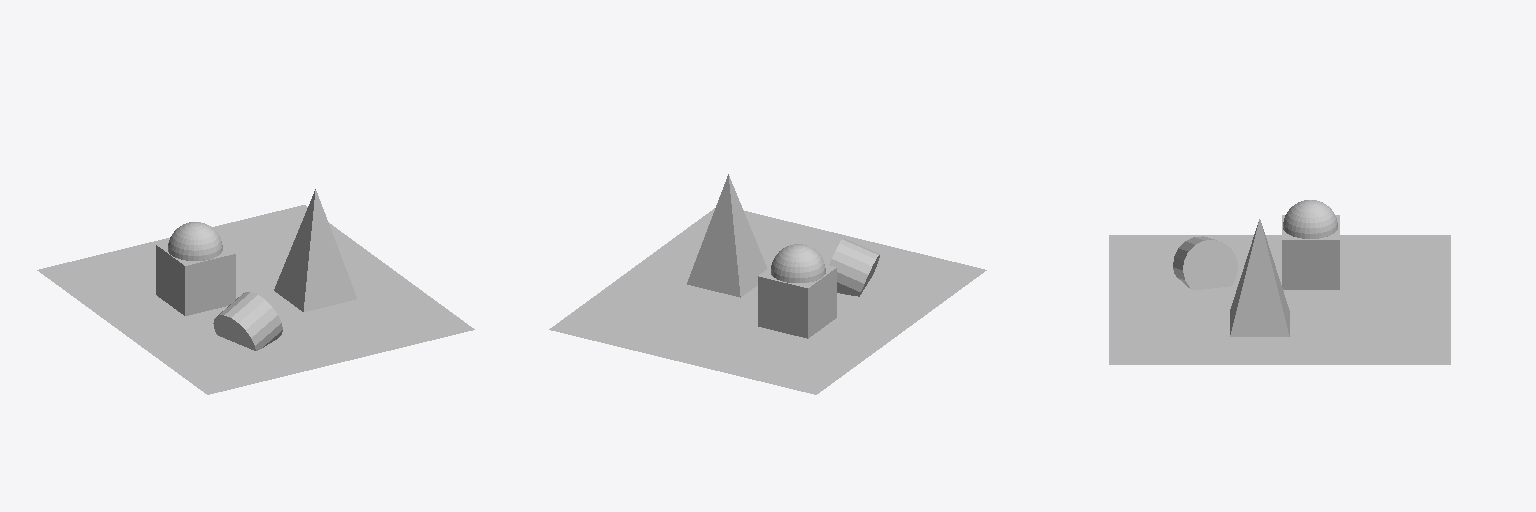
Rendered from shadow_test.obj.
The picture shows the model from 3 angles: view 1: azimuth 30°, elevation 25°; view 2: azimuth 150°, elevation 25°; view 3: azimuth 270°, elevation 25°; orthographic projection.
Visible parts, largest first — view 1: Plane001, Pyramid001, Box001, Cylinder001, Sphere001; view 2: Plane001, Pyramid001, Box001, Cylinder001, Sphere001; view 3: Plane001, Pyramid001, Box001, Cylinder001, Sphere001.
Part boxes in pixels (x1,y1,x2,y2): Plane001: (37, 205, 474, 394); Pyramid001: (274, 189, 356, 311); Box001: (156, 242, 235, 315); Cylinder001: (213, 292, 282, 350); Sphere001: (168, 222, 222, 260); Plane001: (549, 208, 986, 394); Pyramid001: (687, 174, 766, 297); Box001: (758, 264, 836, 338); Cylinder001: (829, 238, 879, 296); Sphere001: (771, 244, 825, 282); Plane001: (1109, 235, 1450, 364); Pyramid001: (1230, 219, 1289, 336); Box001: (1282, 215, 1339, 289); Cylinder001: (1173, 236, 1237, 290); Sphere001: (1283, 200, 1337, 238).
Bounding box in the file's own units: 5.16 × 2.31 × 5.71.